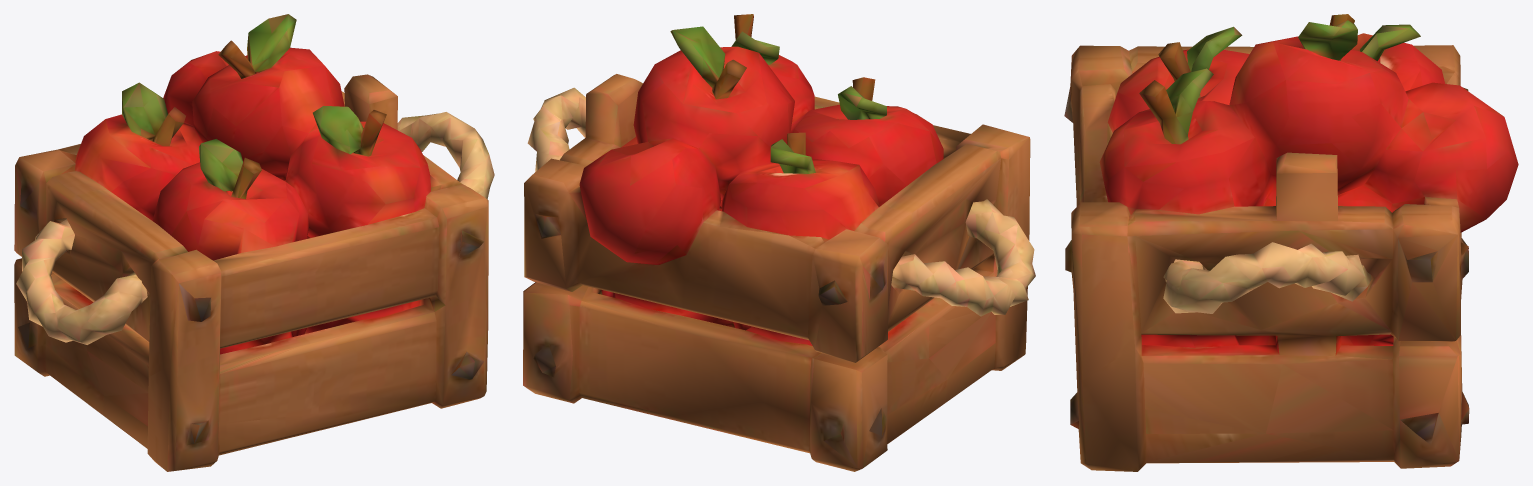
3 renders of one model, left to right at view 1: azimuth 30°, elevation 25°; view 2: azimuth 150°, elevation 25°; view 3: azimuth 270°, elevation 25°, orthographic. The views are drawn at different scales.
Visible parts, largest first — view 1: apple-crate; view 2: apple-crate; view 3: apple-crate.
Part boxes in pixels (x1,y1,x2,y2): apple-crate: [14, 14, 494, 471]; apple-crate: [523, 14, 1035, 471]; apple-crate: [1064, 14, 1518, 471].
Size of the model in its own units: 0.5996 by 0.4252 by 0.4451.
Materials: 1 (1 with a texture image).
